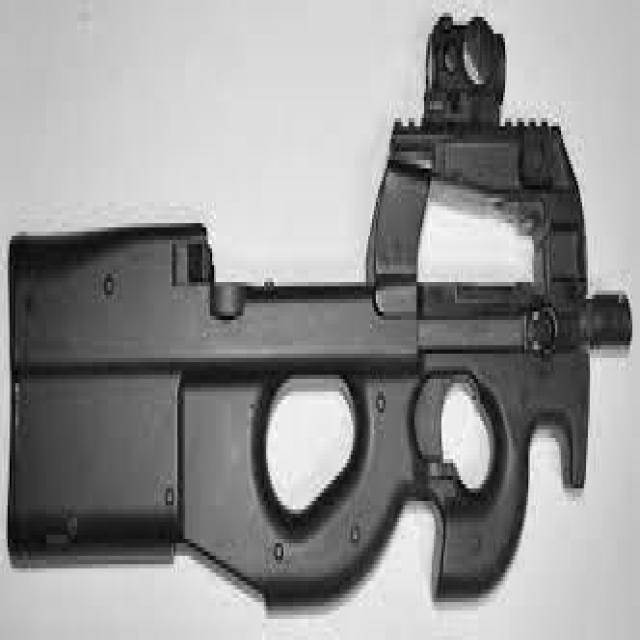Gun: (23, 15, 625, 640)
